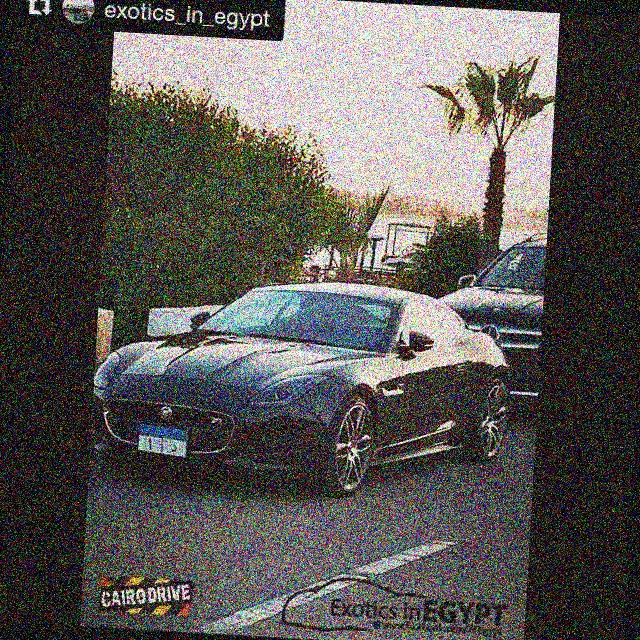License Plate: (132, 421, 192, 462)
